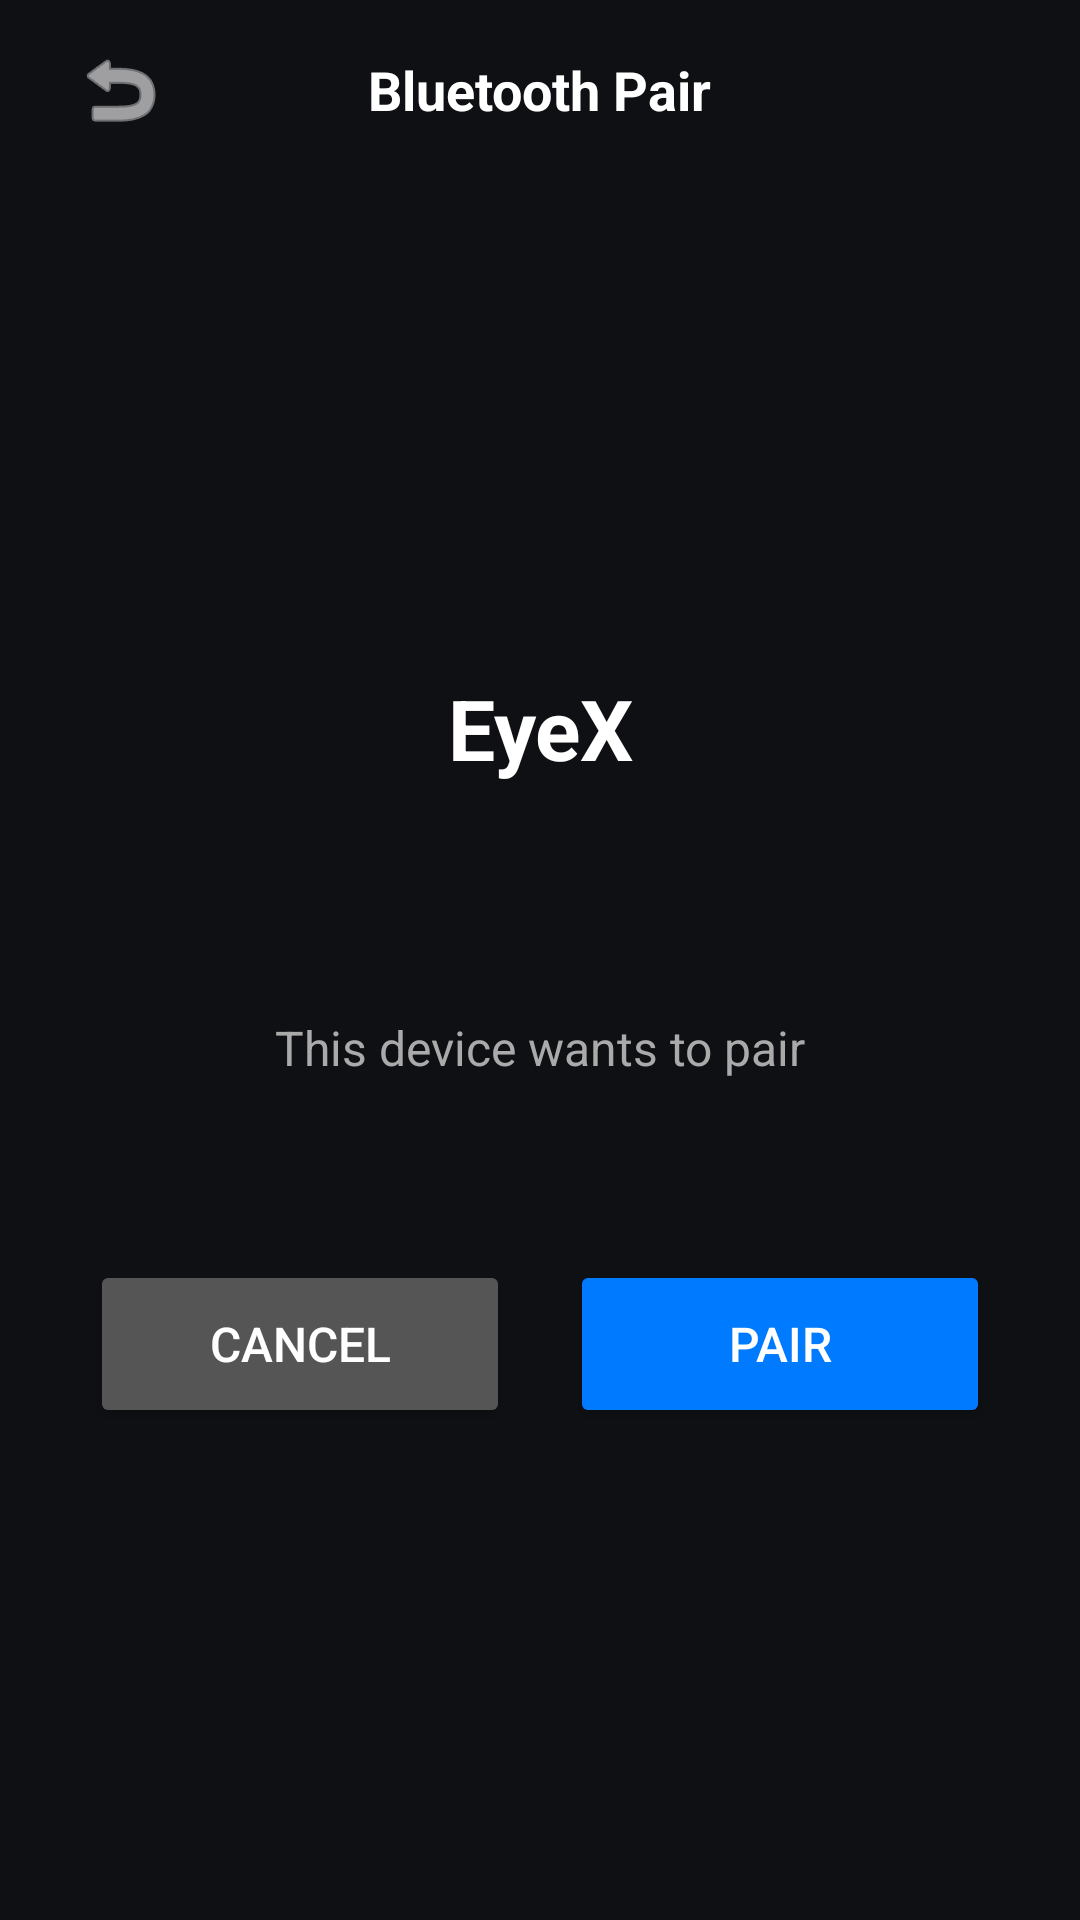

Screen size 1080 × 1920. Icon name, then its box in pixels as (x1, y1, x2, y2):
revert: (87, 59, 156, 122)
